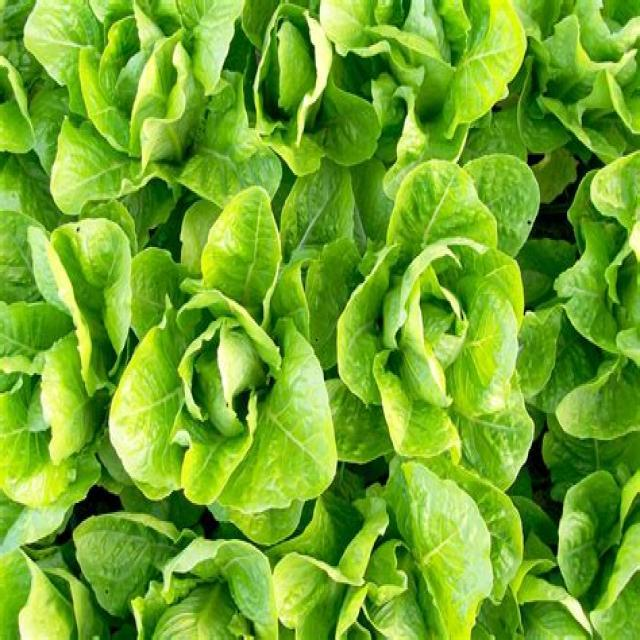Lettuce: (113, 188, 333, 542), (326, 152, 571, 468), (20, 0, 278, 201), (304, 0, 537, 153), (558, 135, 640, 448)
